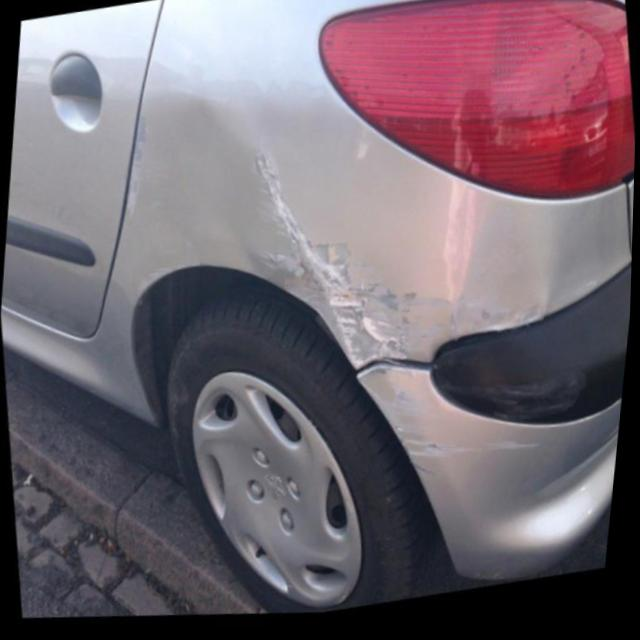Scratch: (223, 142, 446, 393), (426, 288, 545, 348), (377, 403, 453, 481)
